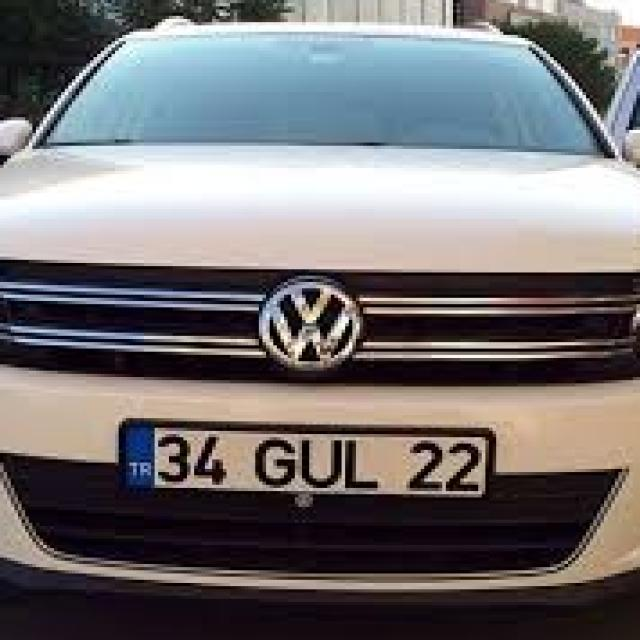license_plate: (120, 422, 491, 498)
